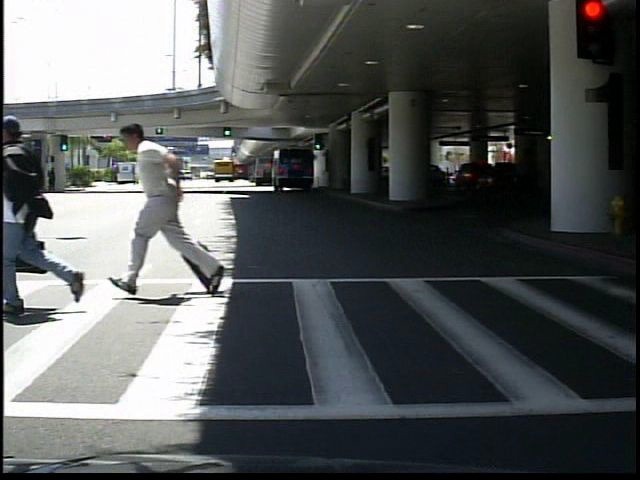person: (6, 105, 96, 317), (130, 120, 209, 299)
